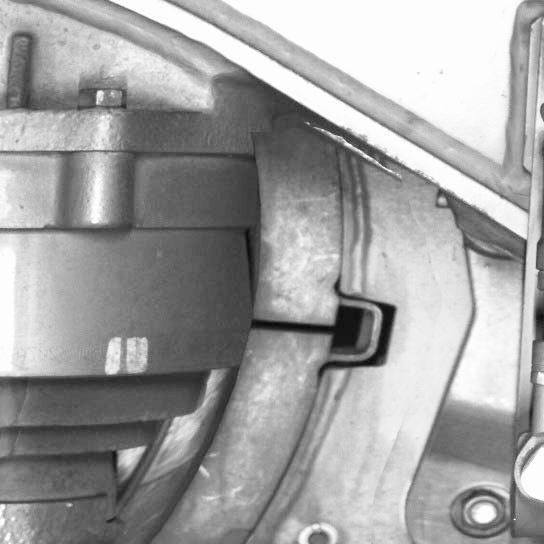ClosedKnifeSwitch: (128, 149, 339, 541)
